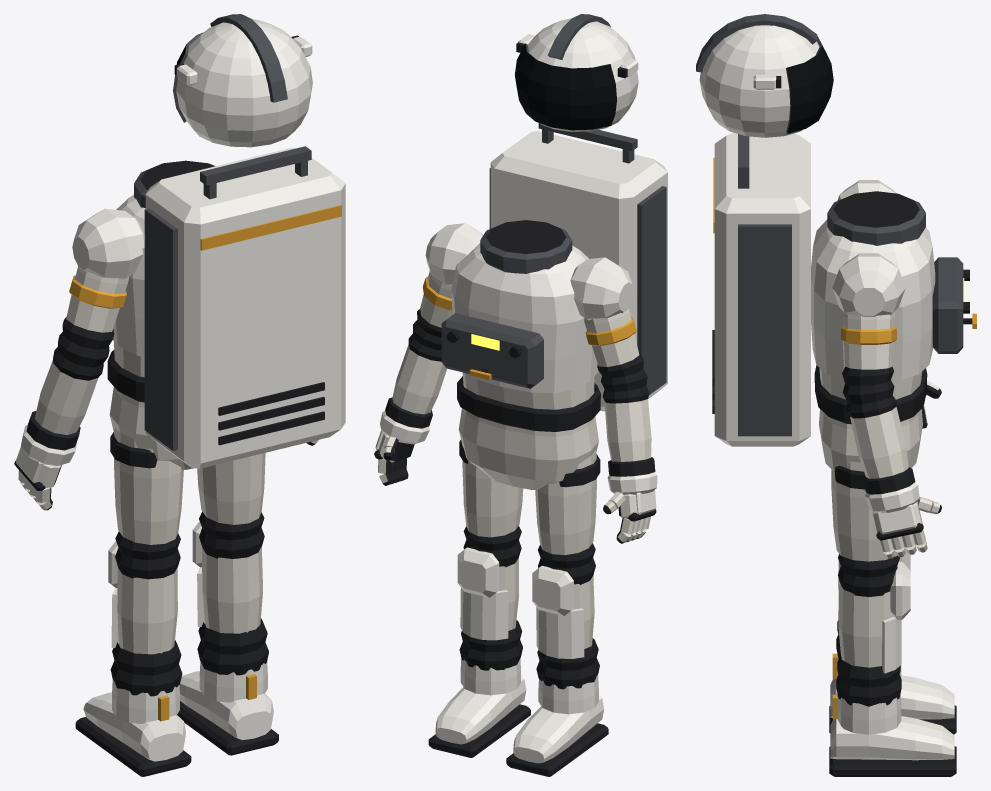
File: astronaut_rack.glb
The picture shows the model from 3 angles, left to right: view 1: azimuth 30°, elevation 25°; view 2: azimuth 150°, elevation 25°; view 3: azimuth 270°, elevation 25°; orthographic projection. The views are drawn at different scales.
Visible parts, largest first — view 1: astronaut_rack, astronaut_helmet; view 2: astronaut_rack, astronaut_helmet; view 3: astronaut_rack, astronaut_helmet.
Part boxes in pixels (bbox=[...]): astronaut_rack: bbox=[14, 146, 345, 776]; astronaut_helmet: bbox=[173, 14, 312, 147]; astronaut_rack: bbox=[374, 123, 667, 776]; astronaut_helmet: bbox=[515, 14, 638, 131]; astronaut_rack: bbox=[712, 133, 976, 776]; astronaut_helmet: bbox=[696, 14, 833, 137].
Size of the model in its own units: 0.8672 by 2.09 by 0.7286.
